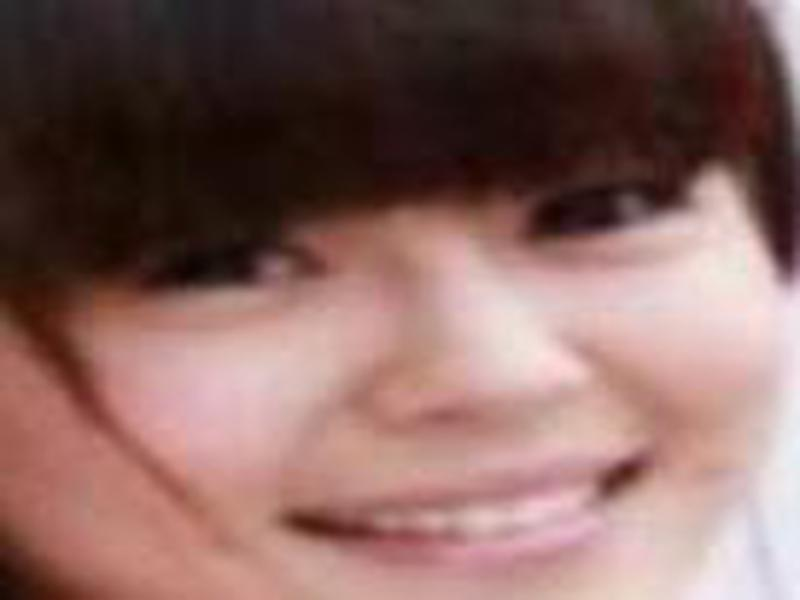without_mask: (48, 148, 789, 599)
